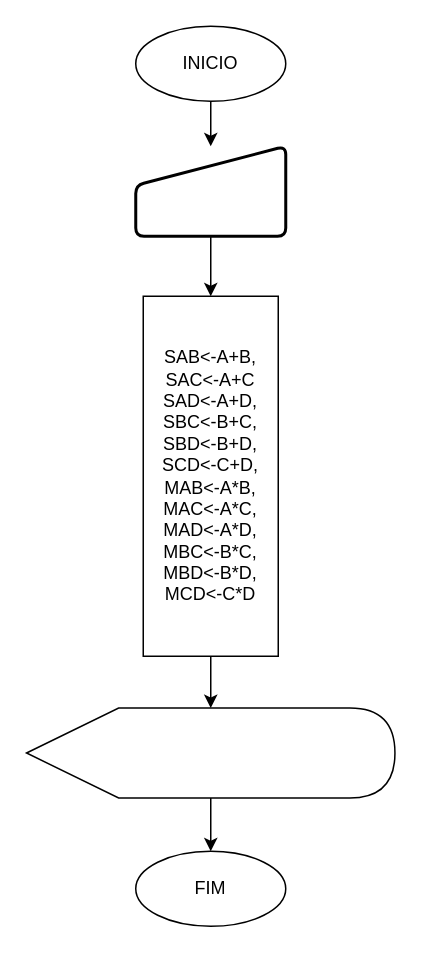
Some shapes in this 422 by 953 pixel diagram are drawn without their labels. The centre of each missing label's shape, as x and y in pixels:
"A,B,C,D" goes at (210,190).
"SAB,SAC,SAD,SBC, SBD,SCD, MAB,MAC,MAD, MBC,MBD,MCD" goes at (210,752).
